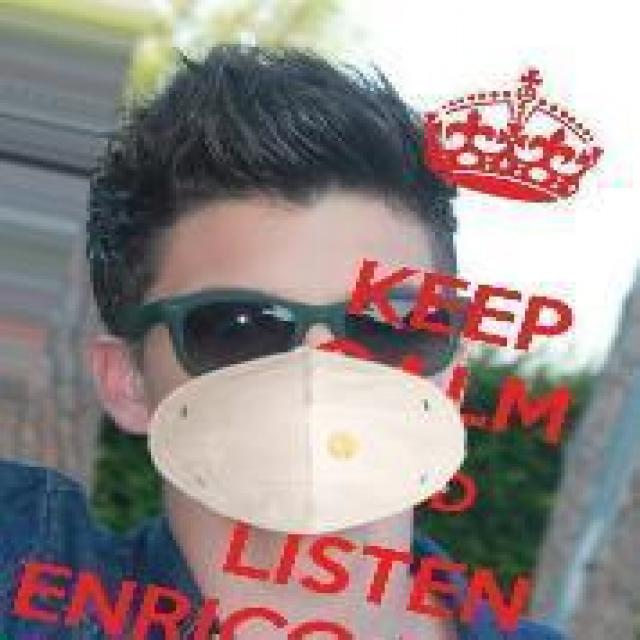mask: (76, 100, 510, 546)
